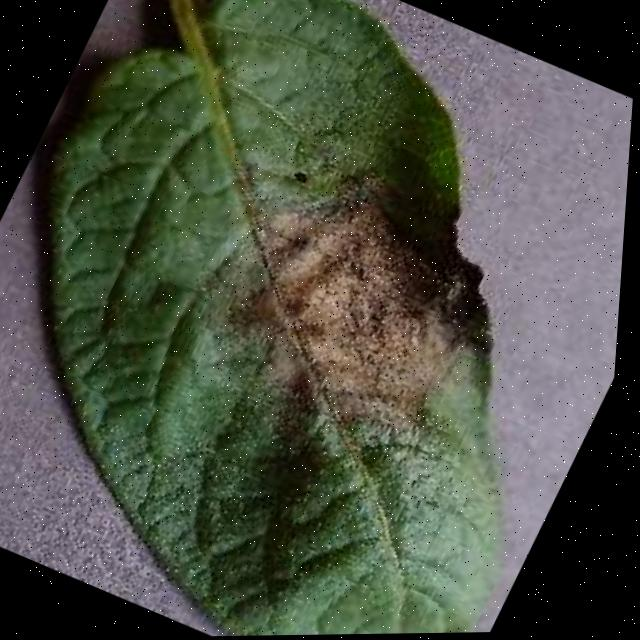Late_blight: (166, 105, 595, 503)
